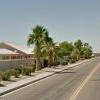Palm tree: (25, 18, 58, 70)
